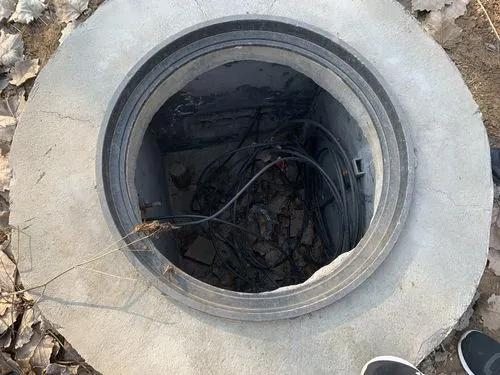wellcover: (98, 20, 415, 330)
